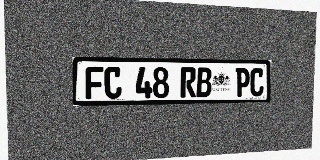4: (135, 67, 152, 98)
8: (153, 67, 169, 98)
B: (196, 67, 212, 97)
C: (104, 67, 122, 99), (250, 68, 264, 96)
F: (85, 66, 104, 99)
P: (235, 68, 250, 97)
R: (180, 67, 196, 98)
